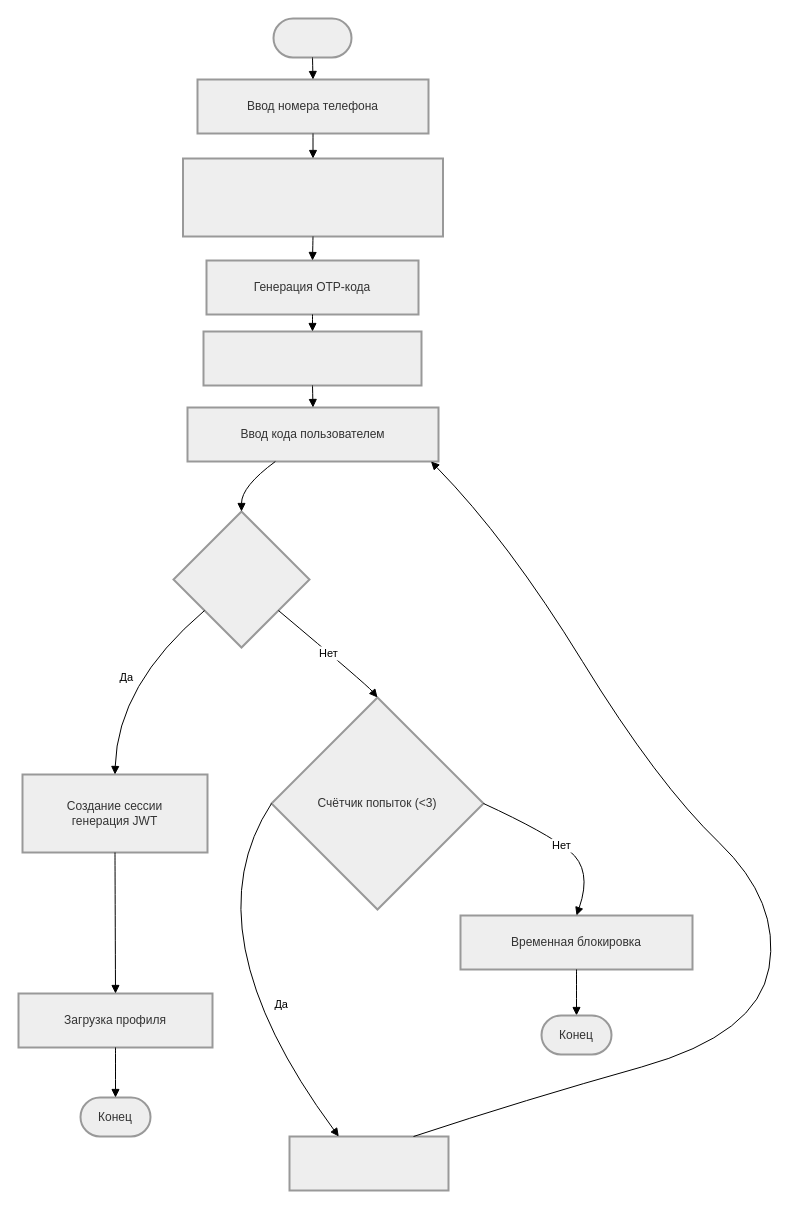
Some shapes in this 788 by 1208 pixel diagram are drawn without their labels. Each missing label, with the box of its shape:
Код верен?: (172, 510, 310, 648)
Начало: (272, 17, 352, 58)
Отправка SMS/звонка: (202, 330, 422, 386)
Отправка запроса на сервер: (182, 157, 444, 237)
Повтор ввода: (288, 1135, 449, 1191)
